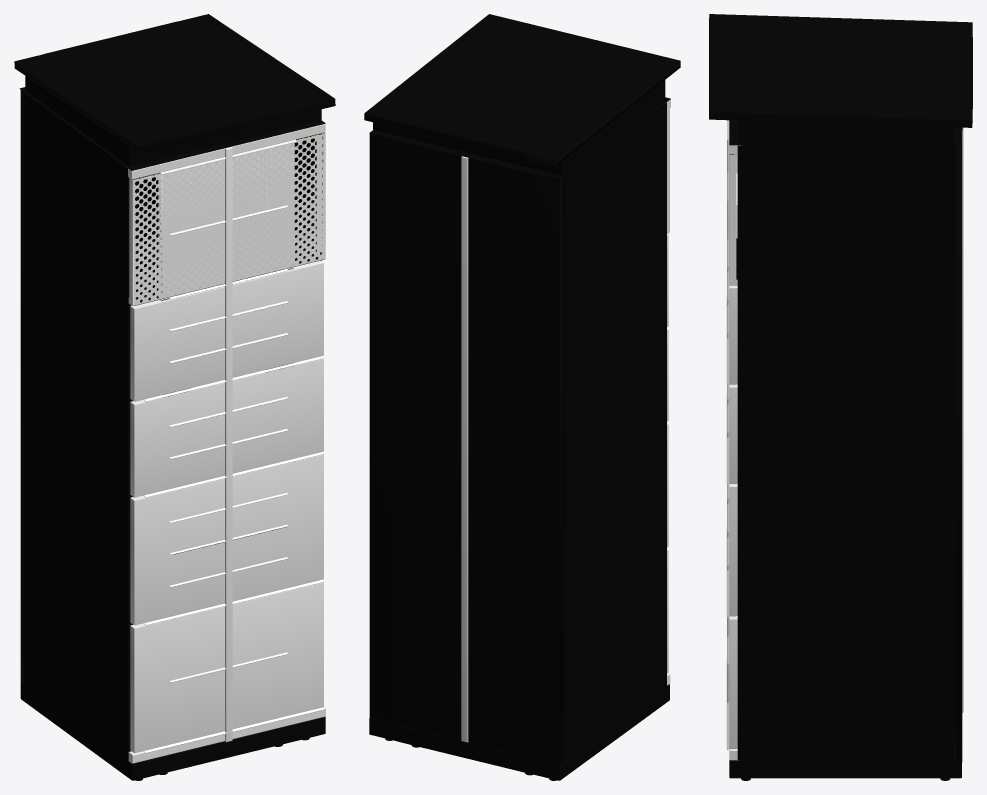
3 renders of one model, left to right at view 1: azimuth 30°, elevation 25°; view 2: azimuth 150°, elevation 25°; view 3: azimuth 270°, elevation 25°, orthographic. The views are drawn at different scales.
Parts seen in each view (by area): view 1: 1, 4, 2, 9, 6, 5; view 2: 1, 4, 9; view 3: 1, 4, 9.
Boxes of the visible parts, x1=… form: 1: x1=14, y1=14, x2=335, y2=780; 4: x1=43, y1=21, x2=304, y2=745; 2: x1=156, y1=127, x2=295, y2=774; 9: x1=225, y1=147, x2=232, y2=742; 6: x1=158, y1=152, x2=287, y2=587; 5: x1=161, y1=139, x2=296, y2=773; 1: x1=364, y1=14, x2=680, y2=780; 4: x1=393, y1=21, x2=651, y2=775; 9: x1=461, y1=156, x2=468, y2=742; 1: x1=709, y1=14, x2=972, y2=780; 4: x1=710, y1=28, x2=972, y2=762; 9: x1=710, y1=61, x2=963, y2=712.
Bounding box in the file's own units: 0.6994 × 2.24 × 0.7943.
2 materials, 1 textured.
